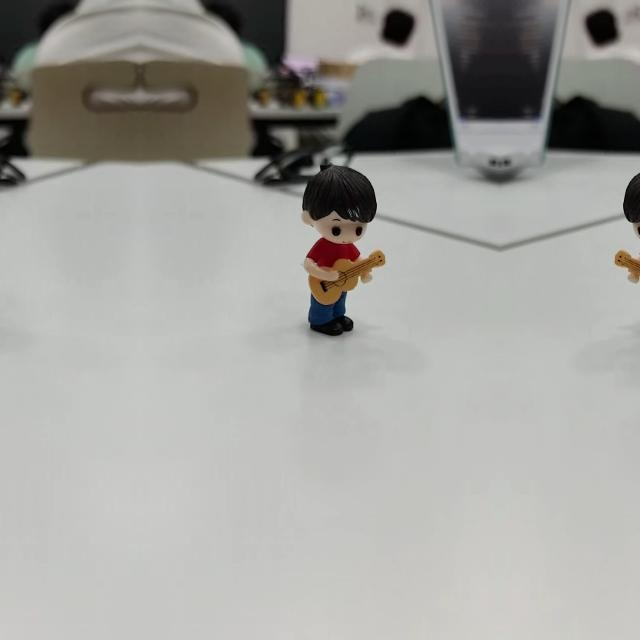man cloth: (306, 234, 362, 274), (638, 234, 640, 274)
man head: (300, 156, 380, 244), (620, 156, 640, 244)
trousers: (308, 292, 354, 334)
